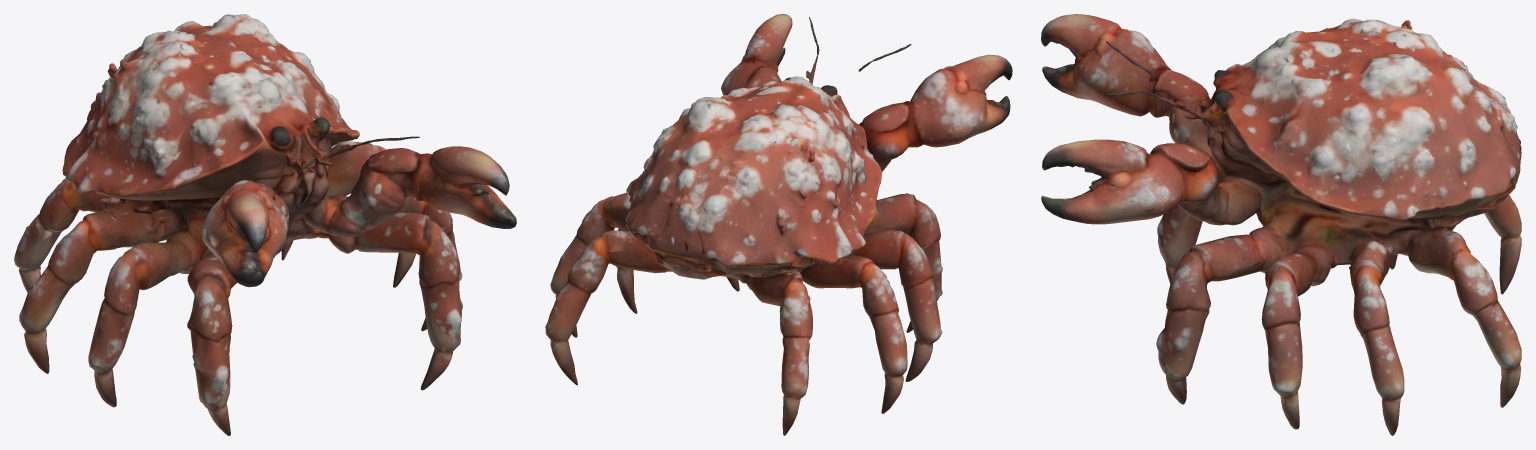
File: giant_crab.glb
The picture shows the model from 3 angles, left to right: view 1: azimuth 30°, elevation 25°; view 2: azimuth 150°, elevation 25°; view 3: azimuth 270°, elevation 25°; orthographic projection. The views are drawn at different scales.
Bounding box in the file's own units: 1.9 × 1.43 × 2.
1 material, 1 textured.
